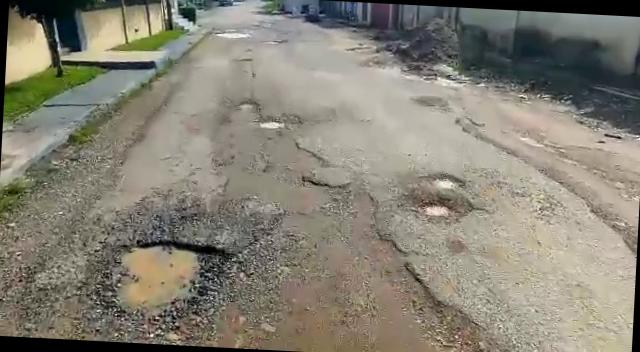pothole: (105, 236, 228, 326), (415, 194, 460, 228), (424, 172, 464, 191), (259, 118, 288, 131), (236, 100, 258, 110)
